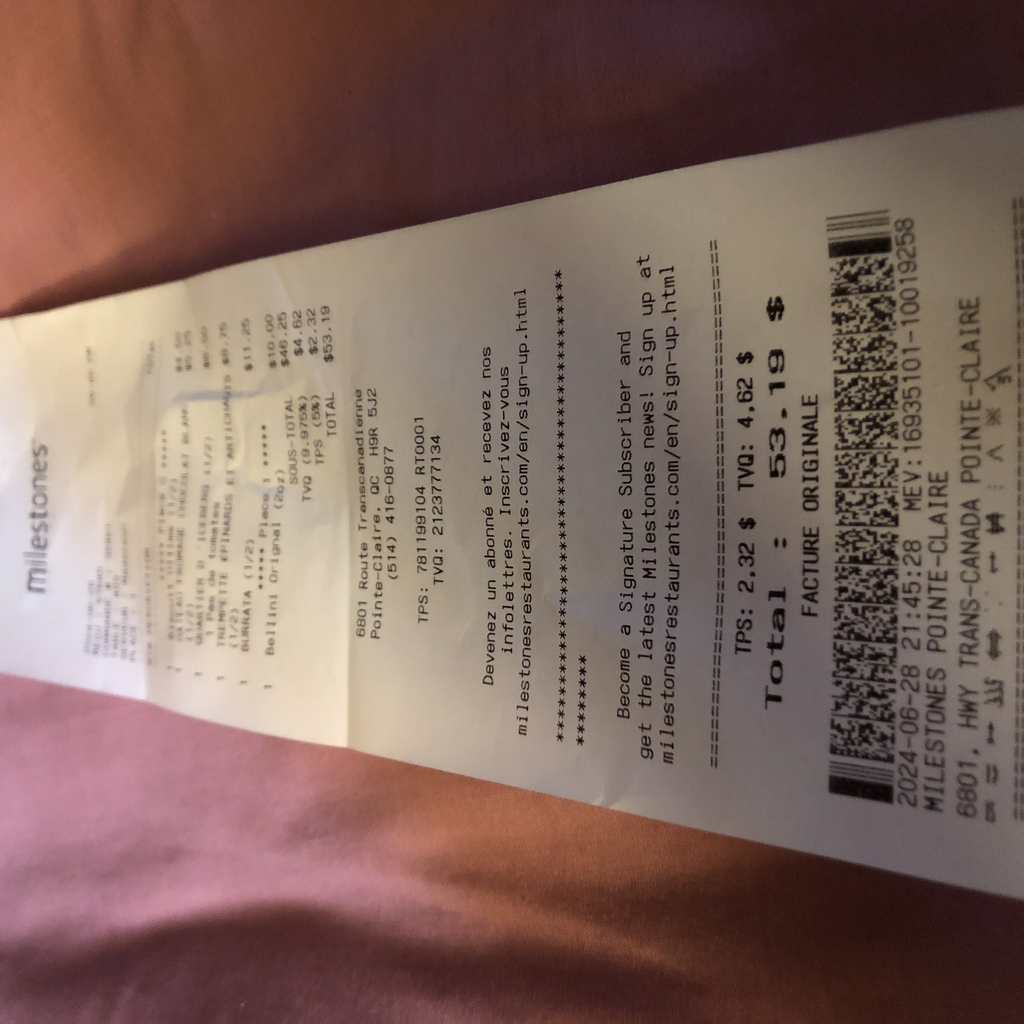recipt: (0, 107, 1020, 902)
